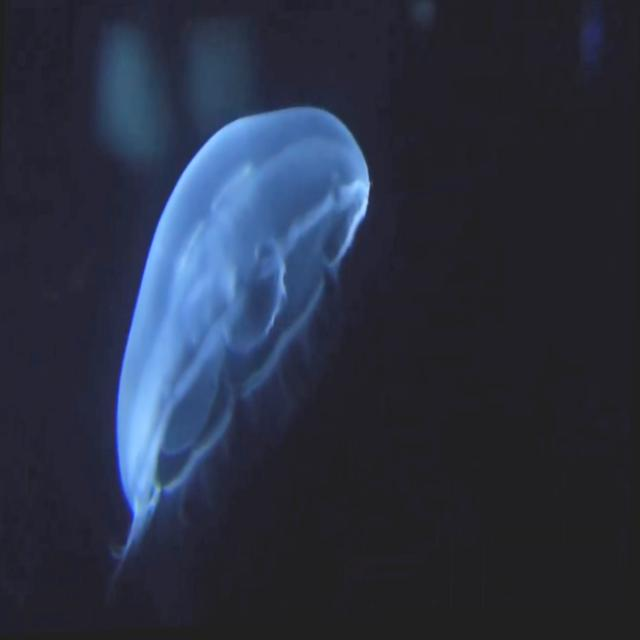Moon-jellyfish: (117, 111, 369, 541)
